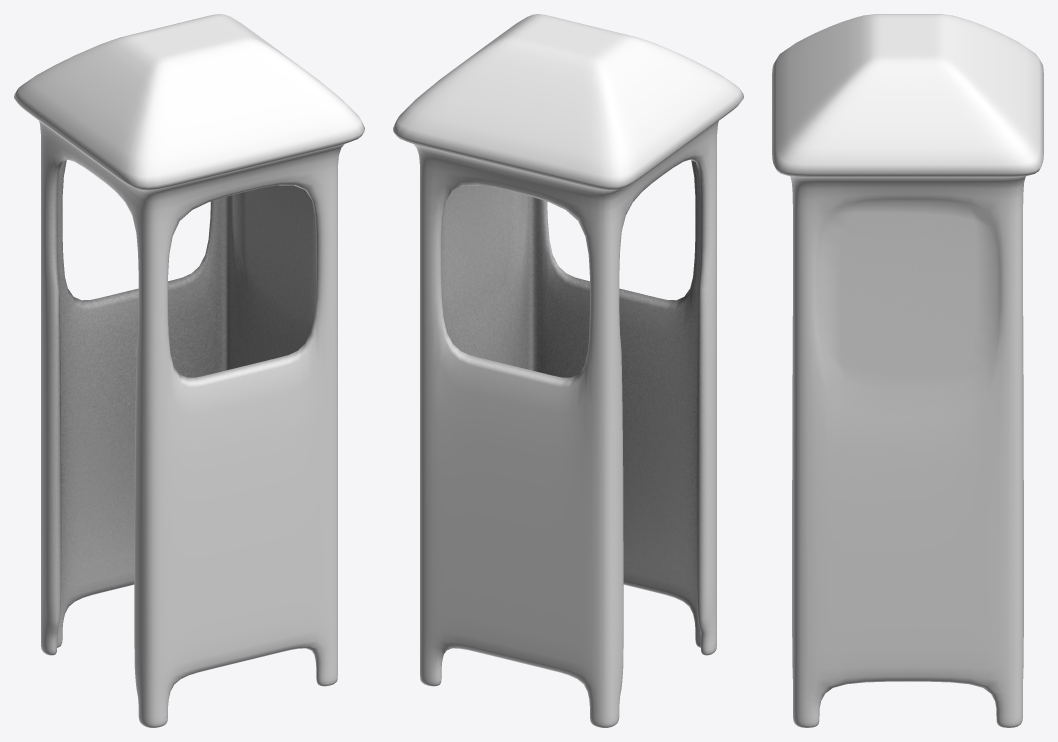
The model's file is kiosk.obj.
3 views of the same model, side by side, from view 1: azimuth 30°, elevation 25°; view 2: azimuth 150°, elevation 25°; view 3: azimuth 270°, elevation 25° (orthographic). The views are drawn at different scales.
Parts seen in each view (by area): view 1: Cube; view 2: Cube; view 3: Cube.
Part boxes in pixels (x1,y1,x2,y2): Cube: (14,14,364,727); Cube: (393,14,743,727); Cube: (772,14,1043,727).
Size of the model in its own units: 21.62 by 54.63 by 20.88.
1 material, 1 textured.
